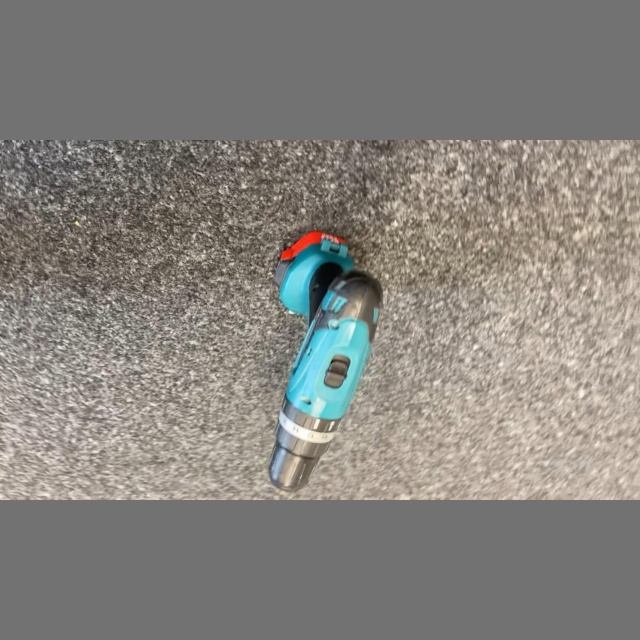drill: (262, 226, 387, 496)
